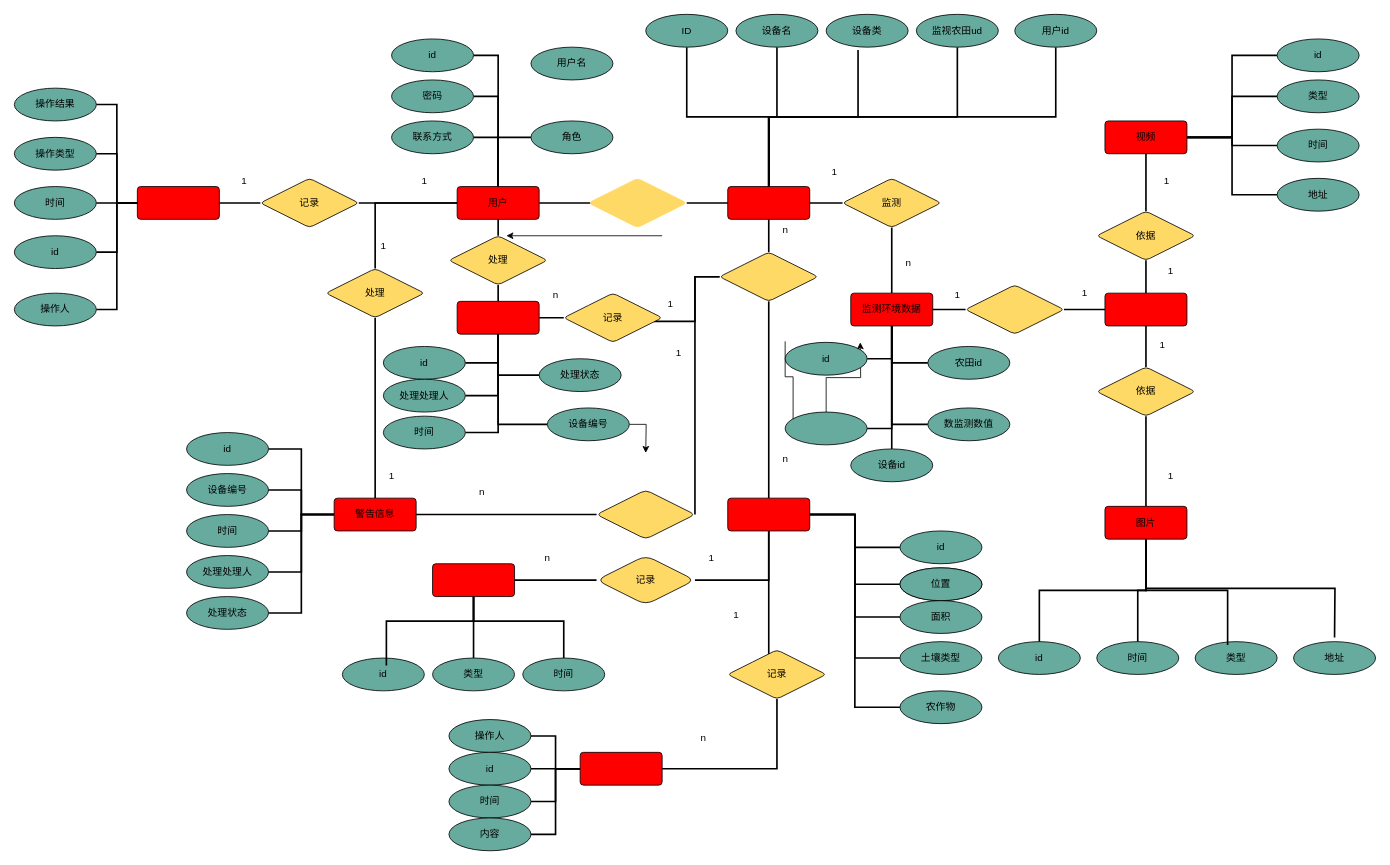
This 1390x865 diagram has some shape labels left out. Each missing label, with the box of its shape:
ai建议: (1104, 292, 1187, 326)
农事记录: (579, 752, 662, 785)
农田: (727, 497, 810, 531)
属于: (588, 178, 687, 228)
异常信息: (456, 301, 539, 334)
操作日志: (137, 186, 219, 219)
检测时间: (784, 411, 867, 445)
生成: (965, 284, 1064, 334)
病虫历史: (432, 563, 515, 597)
监视: (719, 251, 818, 301)
警告: (596, 489, 695, 539)
设备: (727, 186, 810, 219)
